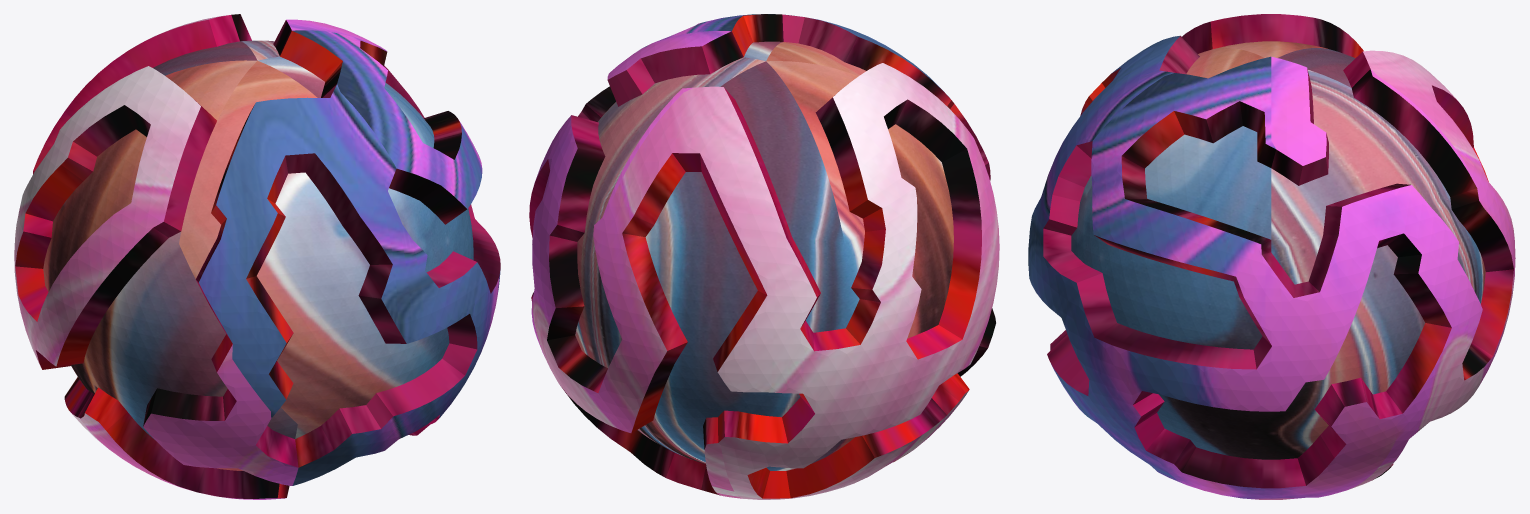
Rendered from funworld.fbx.
The picture shows the model from 3 angles, left to right: view 1: azimuth 30°, elevation 25°; view 2: azimuth 150°, elevation 25°; view 3: azimuth 270°, elevation 25°; orthographic projection.
Visible parts, largest first — view 1: Icosphere; view 2: Icosphere; view 3: Icosphere.
Boxes of the visible parts, box(x1,y1,x2,y2) form: Icosphere: box(14, 14, 500, 499); Icosphere: box(529, 14, 999, 499); Icosphere: box(1028, 14, 1515, 499).
Bounding box in the file's own units: 1125 × 1118 × 1122.
3 materials, 3 textured.
